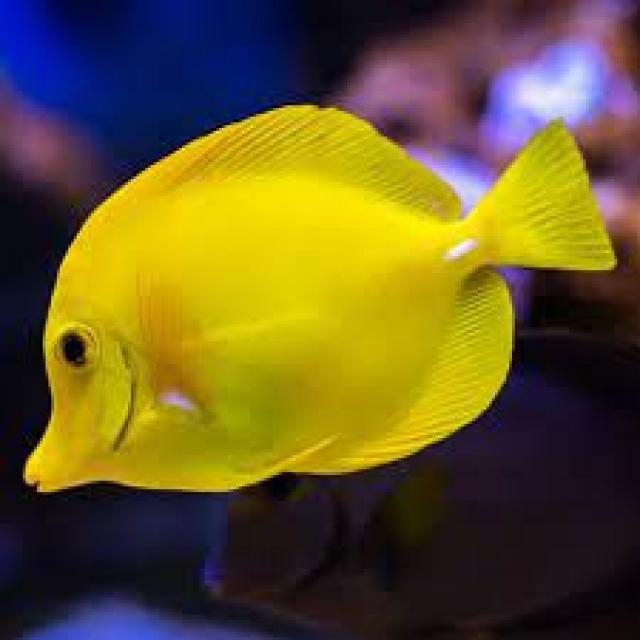TangFish: (21, 98, 622, 508)
